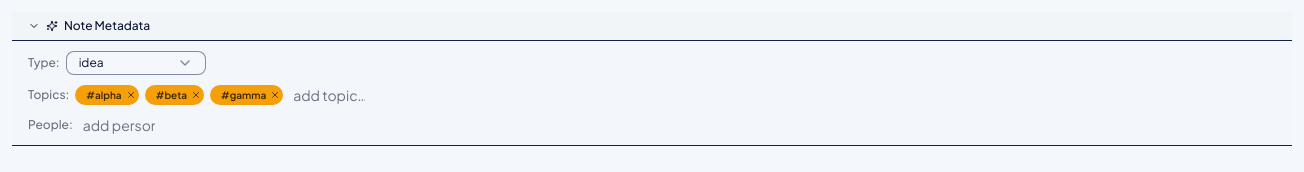
NoteMetadataEditor › accumulates quick edits before the first save comes back
What coordinates should you click on to do the following:
click the button named "Remove topic alpha"
I would click on:
 (131, 95)
Its box is [126,90,136,100].
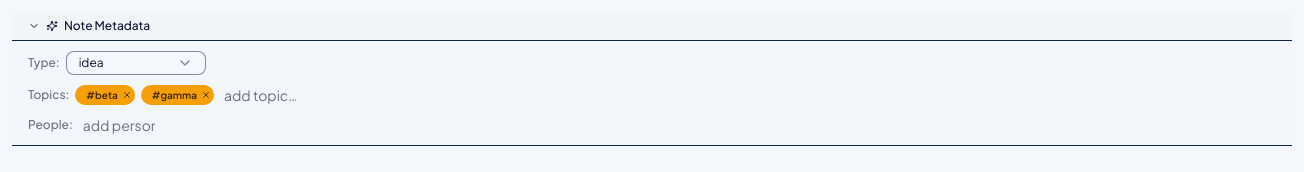
What coordinates should you click on to do the following:
click the button named "Remove topic beta"
I would click on:
 (127, 95)
Its box is [122,90,132,100].
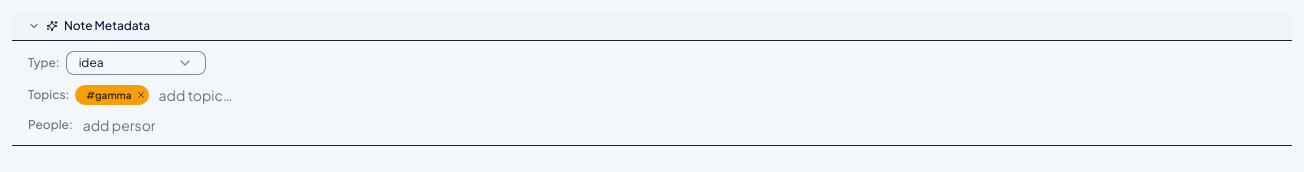
Expected: the text "#alpha" is not shown
Expected: the text "#beta" is gone
